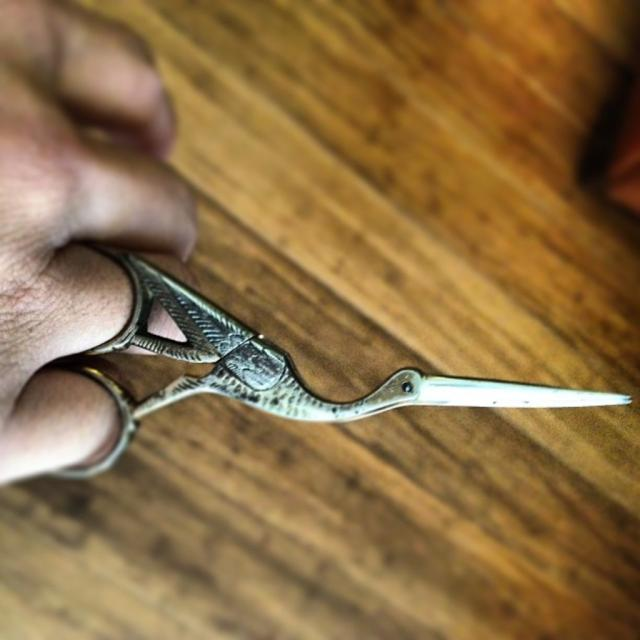scissors: (42, 238, 634, 481)
